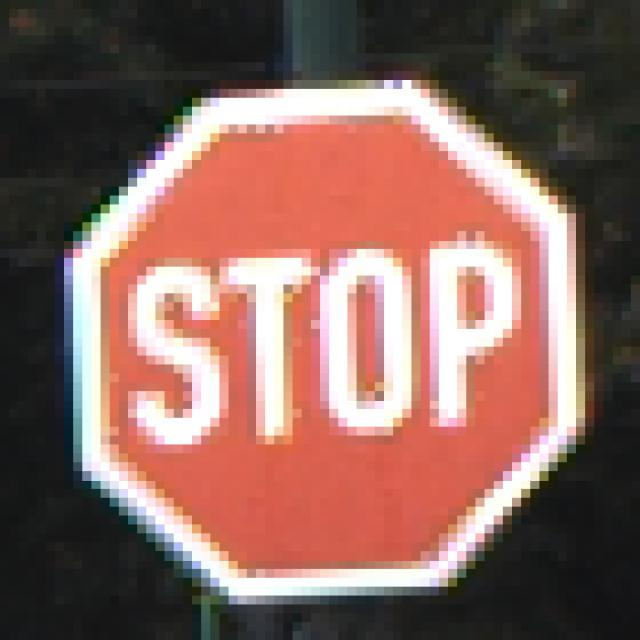STOP: (65, 63, 586, 588)
